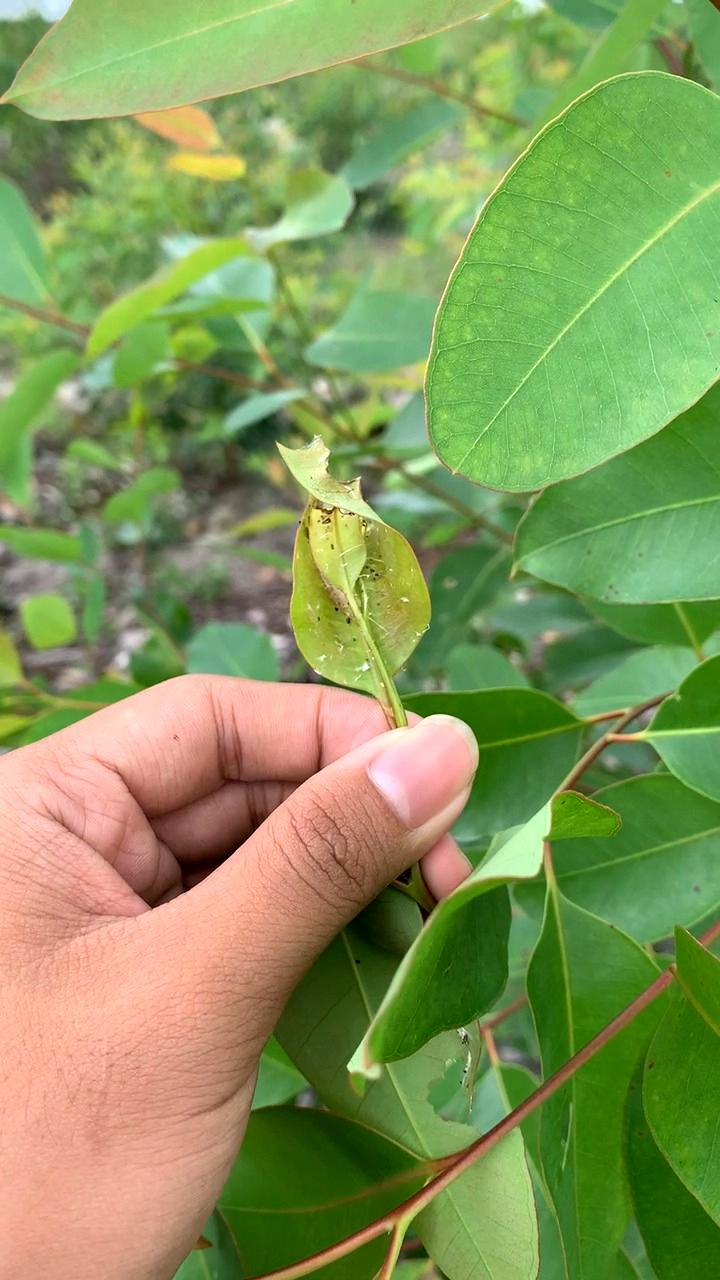Leaf Roller - Leaf: (283, 423, 431, 685)
